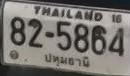letters: (27, 18, 44, 49), (10, 17, 27, 47), (108, 27, 125, 57), (91, 25, 107, 55), (57, 21, 72, 51), (74, 23, 89, 53)
province: (45, 53, 90, 68)
